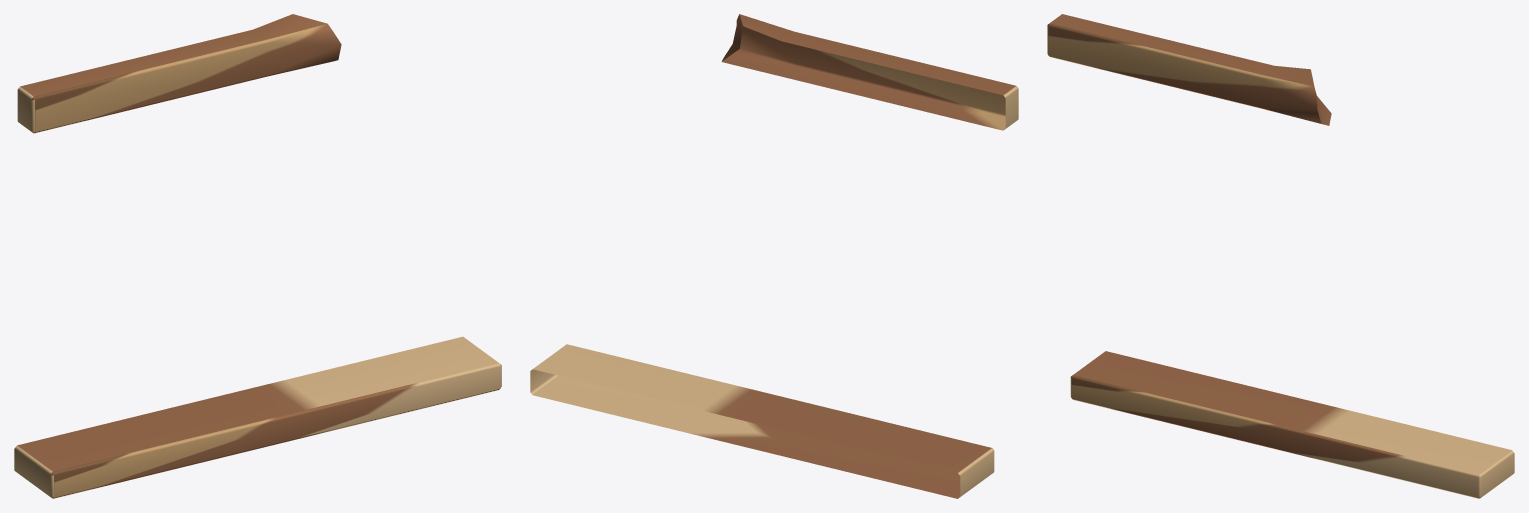
File: DBK_WinWide_Trim_D_90.fbx
The picture shows the model from 3 angles, left to right: view 1: azimuth 30°, elevation 25°; view 2: azimuth 150°, elevation 25°; view 3: azimuth 330°, elevation 25°; orthographic projection. The views are drawn at different scales.
Parts seen in each view (by area): view 1: DBK_WinWide_Trim_D_90; view 2: DBK_WinWide_Trim_D_90; view 3: DBK_WinWide_Trim_D_90.
Boxes of the visible parts, bbox=[...] form: DBK_WinWide_Trim_D_90: bbox=[14, 14, 501, 498]; DBK_WinWide_Trim_D_90: bbox=[530, 14, 1018, 498]; DBK_WinWide_Trim_D_90: bbox=[1047, 14, 1514, 498].
Size of the model in its own units: 172 by 144 by 29.07.
